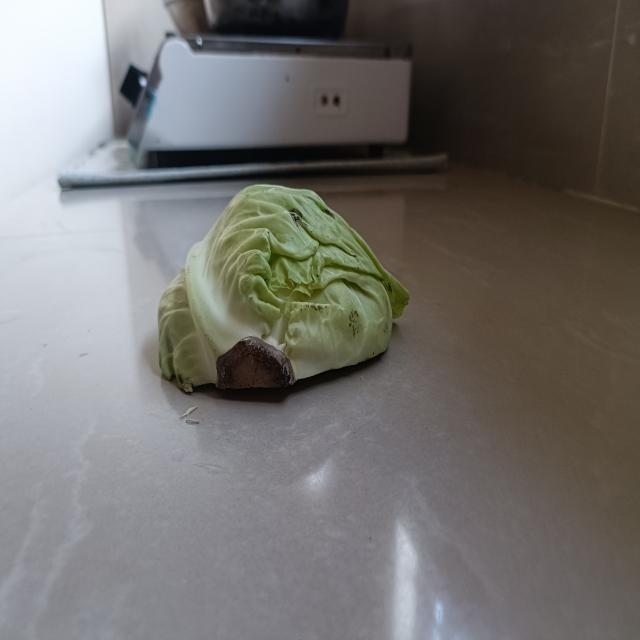cabbage: (159, 178, 392, 389)
